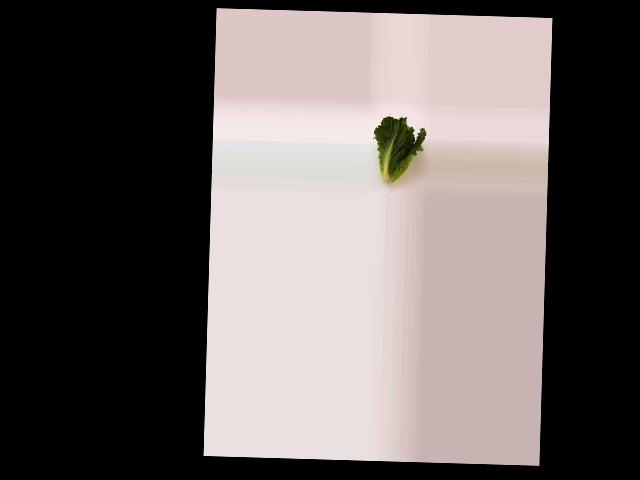lettuce: (371, 113, 424, 191)
